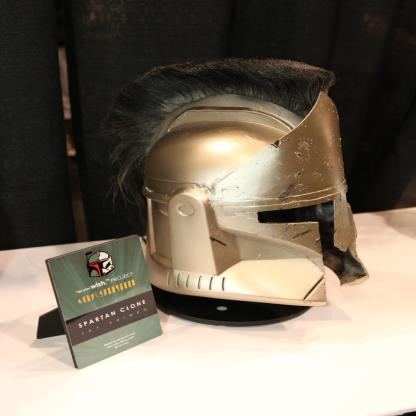Helmet: (98, 59, 368, 298)
